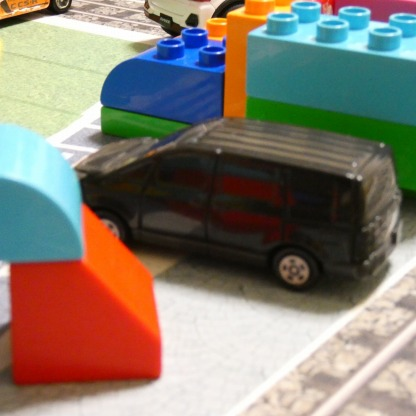car: (70, 128, 403, 291), (141, 0, 250, 35), (0, 0, 80, 23)
